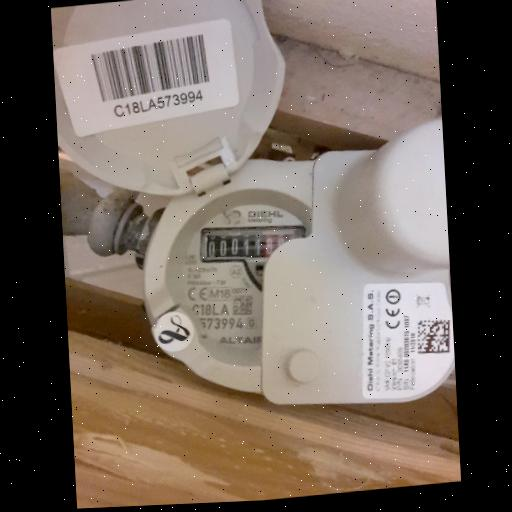0: (228, 233, 243, 258), (216, 233, 230, 258), (206, 234, 219, 258)
1: (251, 234, 266, 259), (239, 234, 253, 259)
8: (263, 234, 277, 259)
9: (276, 233, 290, 249)
border_water_meter_number: (198, 216, 308, 271)
